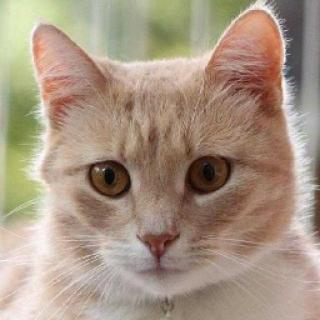cat: (27, 6, 299, 298)
nose: (132, 194, 189, 262)
